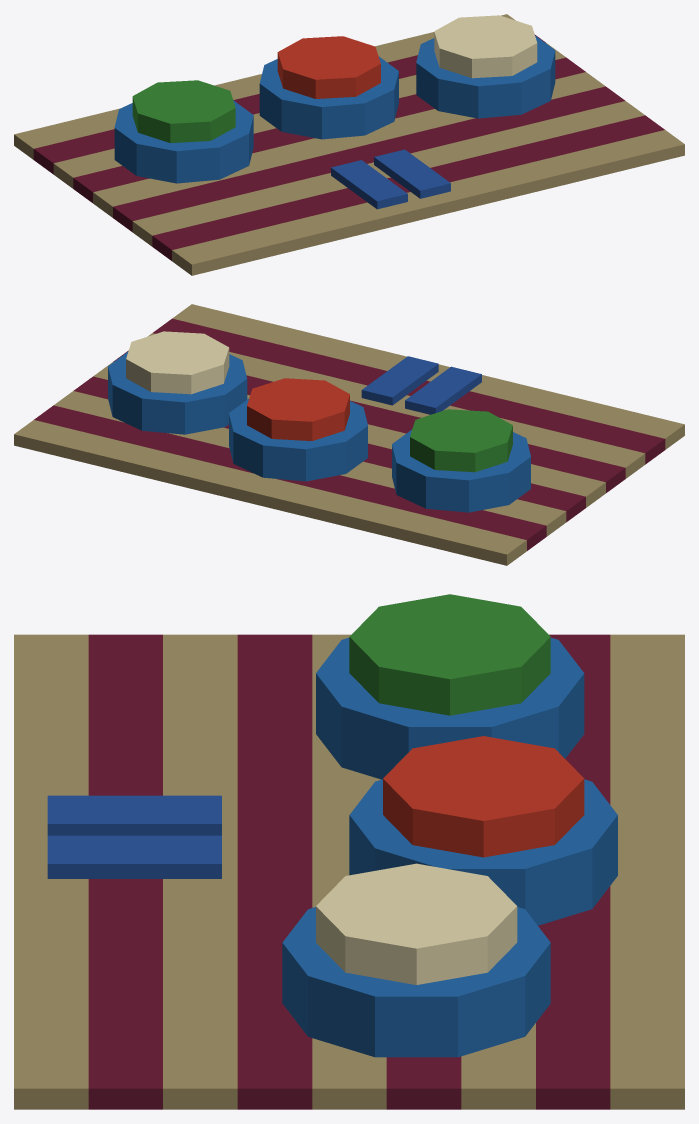
Rendered from prop_mat.glb.
3 renders of one model, top to bottom at view 1: azimuth 30°, elevation 25°; view 2: azimuth 150°, elevation 25°; view 3: azimuth 270°, elevation 25°, orthographic. The views are drawn at different scales.
Parts seen in each view (by area): view 1: body; view 2: body; view 3: body.
Boxes of the visible parts, x1,y1,x2,y2 form: body: (14, 14, 684, 275); body: (14, 304, 684, 565); body: (14, 594, 684, 1109).
Bounding box in the file's own units: 1.6 × 0.195 × 1.
